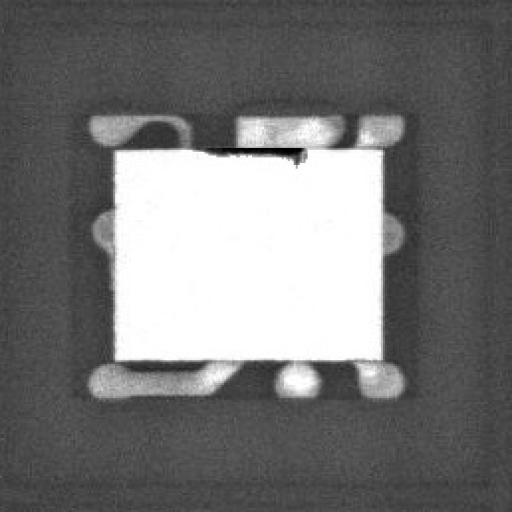DIE_BROKEN: (192, 140, 310, 165)
